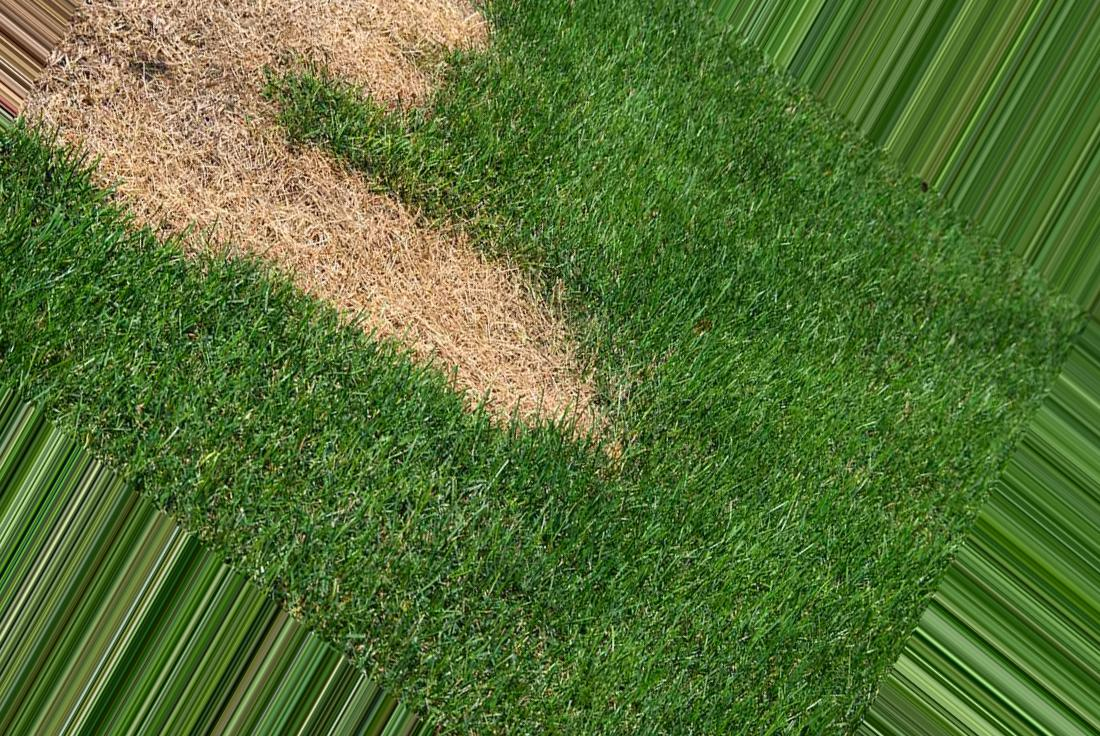patch: (114, 80, 262, 234), (328, 212, 502, 340), (282, 12, 428, 91), (497, 351, 563, 403)
